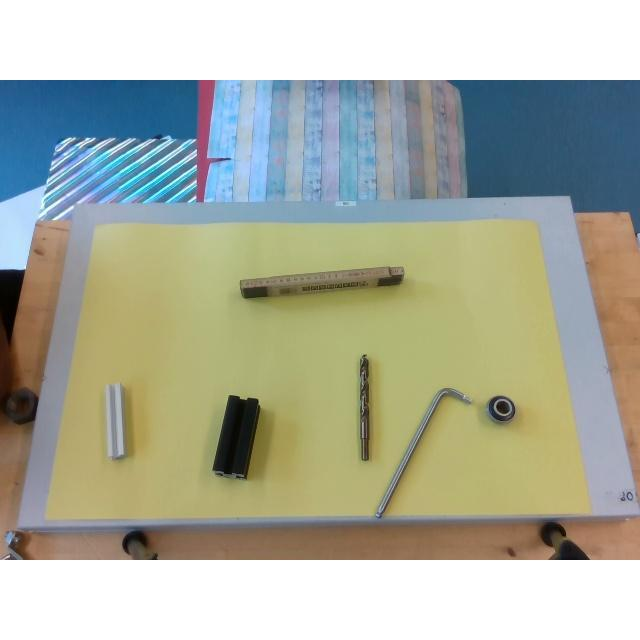AllenKey: (374, 387, 472, 518)
Bearing2: (487, 394, 515, 422)
Drill: (358, 354, 370, 462)
F20_20_G: (105, 382, 126, 458)
S40_40_B: (212, 394, 260, 478)
